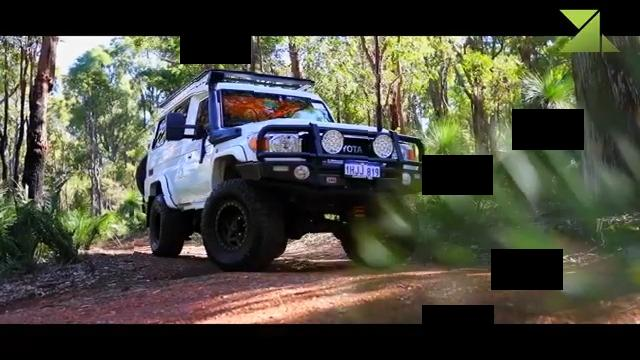MIL_HMMWV: (134, 71, 429, 266)
